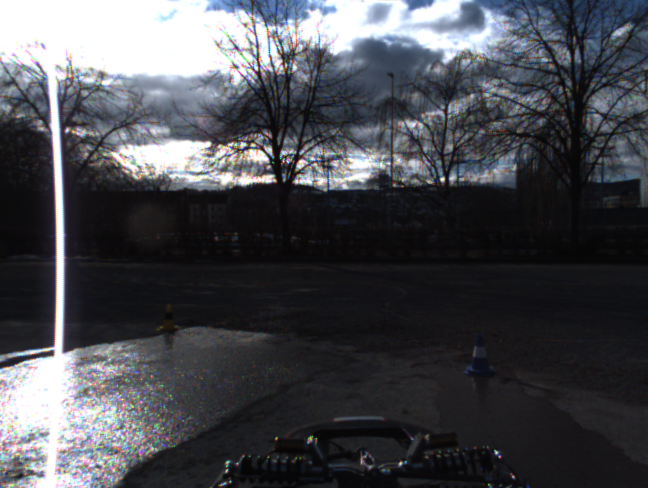cone-small-blue: (464, 333, 497, 376)
cone-small-yellow: (156, 303, 179, 331)
